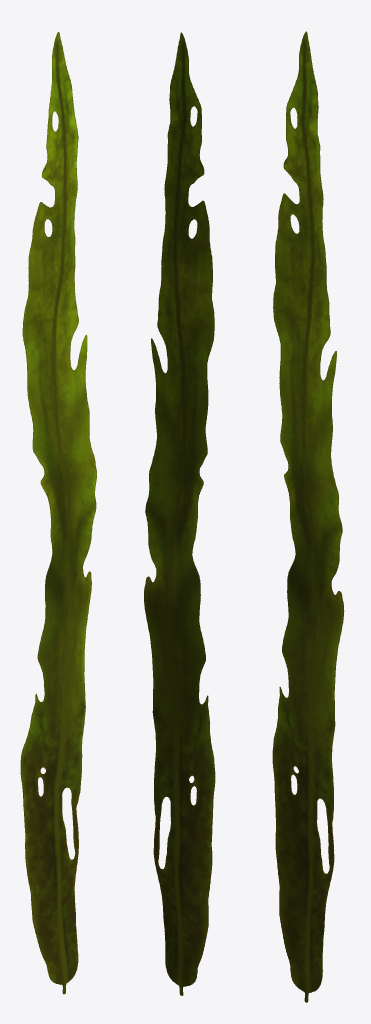
The picture shows the model from 3 angles, left to right: view 1: azimuth 30°, elevation 25°; view 2: azimuth 150°, elevation 25°; view 3: azimuth 330°, elevation 25°; orthographic projection.
Parts seen in each view (by area): view 1: sc015; view 2: sc015; view 3: sc015.
Boxes of the visible parts, left/top/right/bottom form: sc015: left=20, top=32, right=96, bottom=994; sc015: left=144, top=32, right=215, bottom=995; sc015: left=272, top=31, right=344, bottom=1002.
Bounding box in the file's own units: 132 × 1352 × 27.65.
